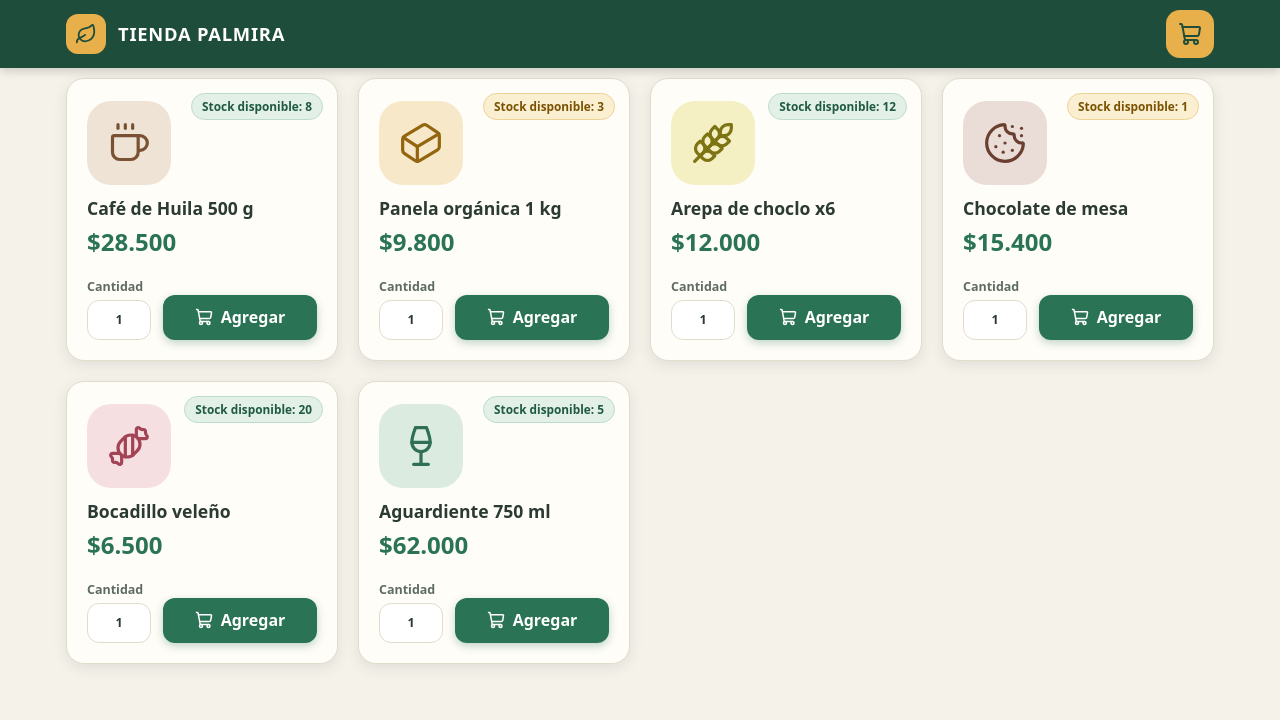
Scenario: Reto carrito de compras - casos de prueba del instructor › botón quitar elimina directamente
(page scrolled)
Click the button "Agregar" below "$6.500". click: coordinates (240, 620)
box: [163,598,317,643]
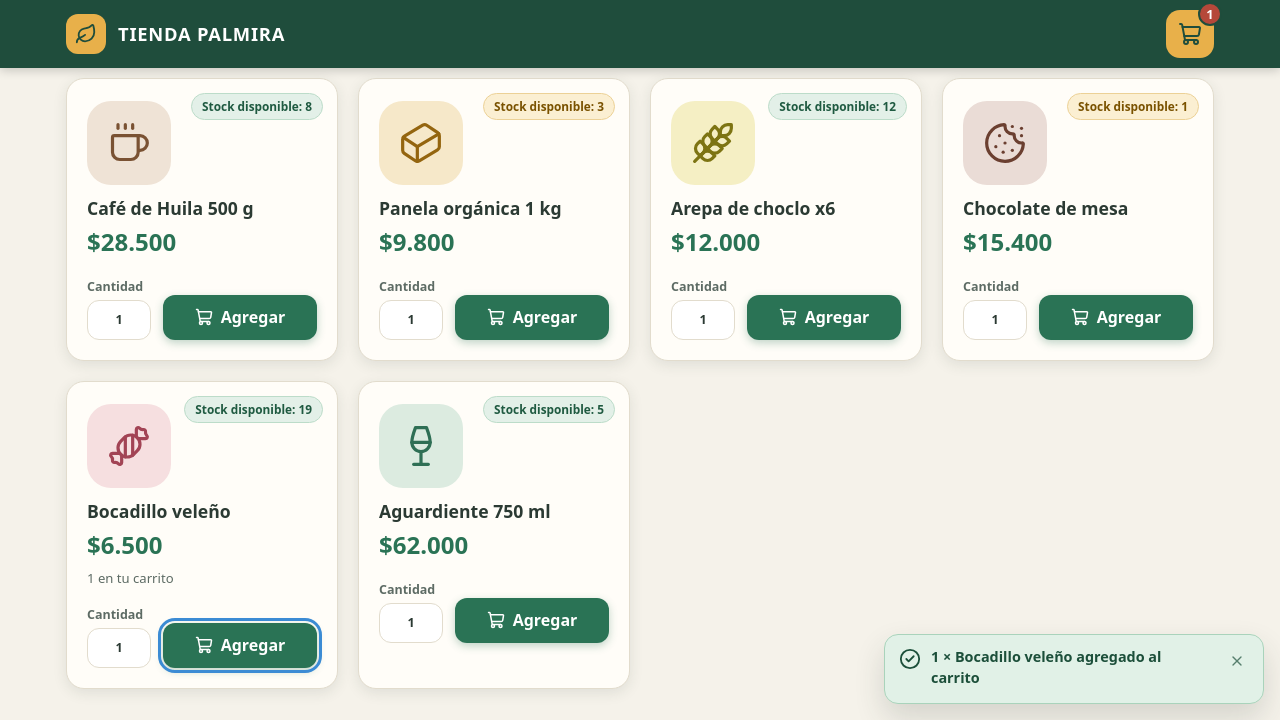
Click the button named "abrir carrito". click: coordinates (1190, 34)
box: [1166,10,1214,58]
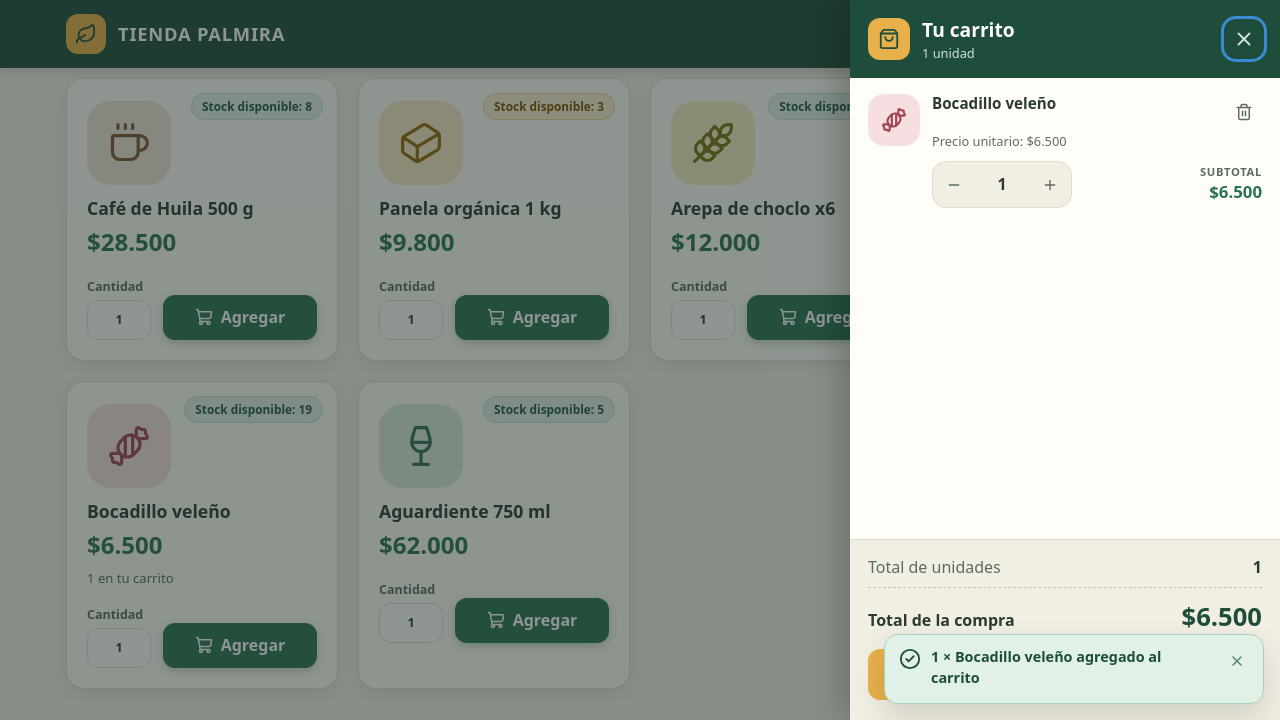
Click the button named "quitar bocadillo". click: coordinates (1244, 112)
box: [1226,94,1262,130]
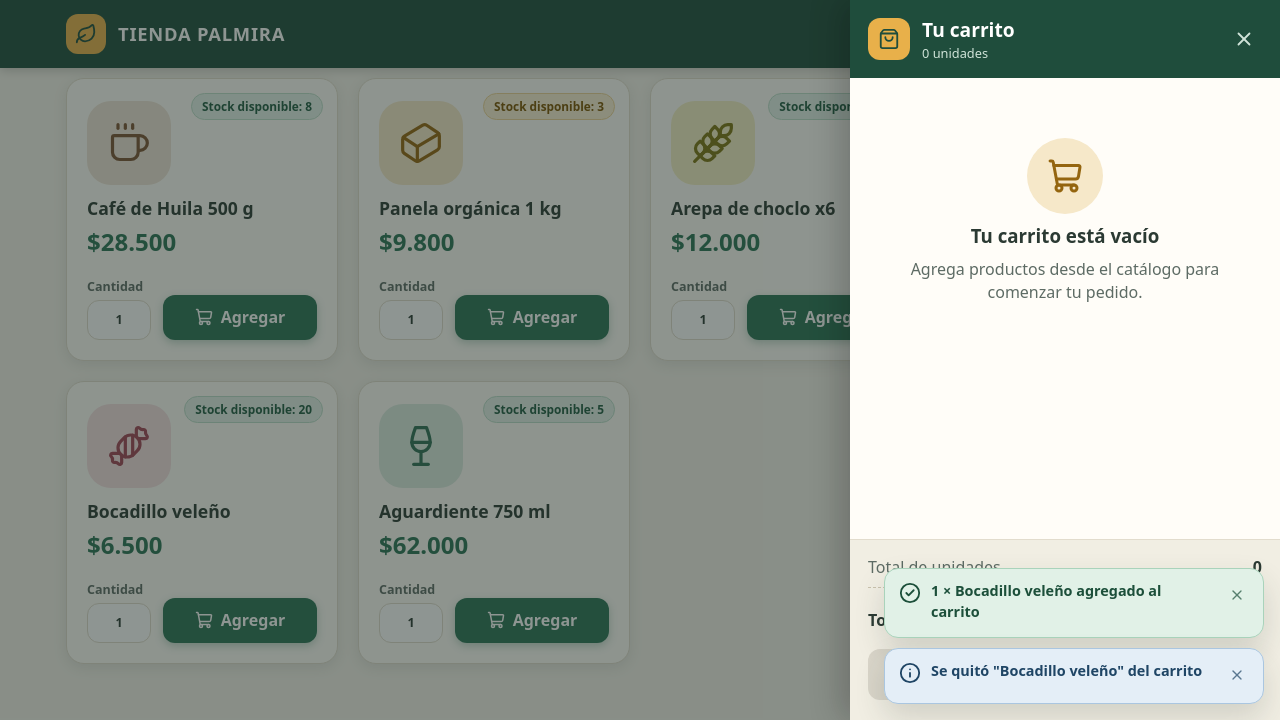
Now the heading "Tu carrito está vacío" is shown, box [971,222,1159,250]
